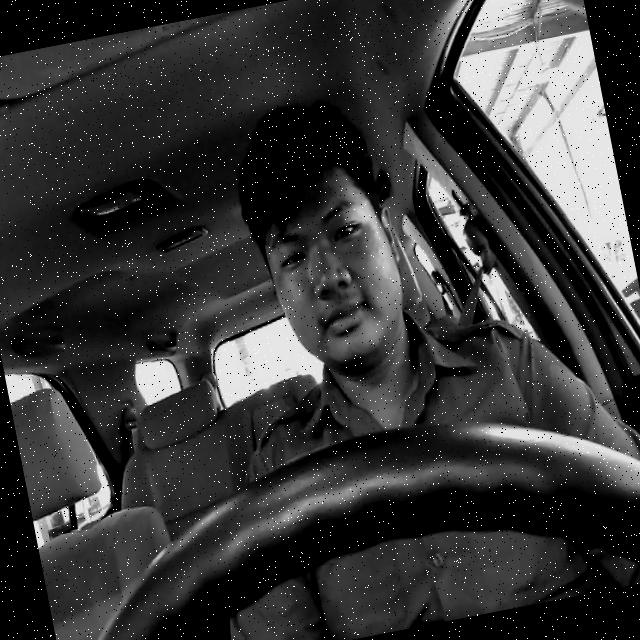focused: (252, 159, 416, 379)
